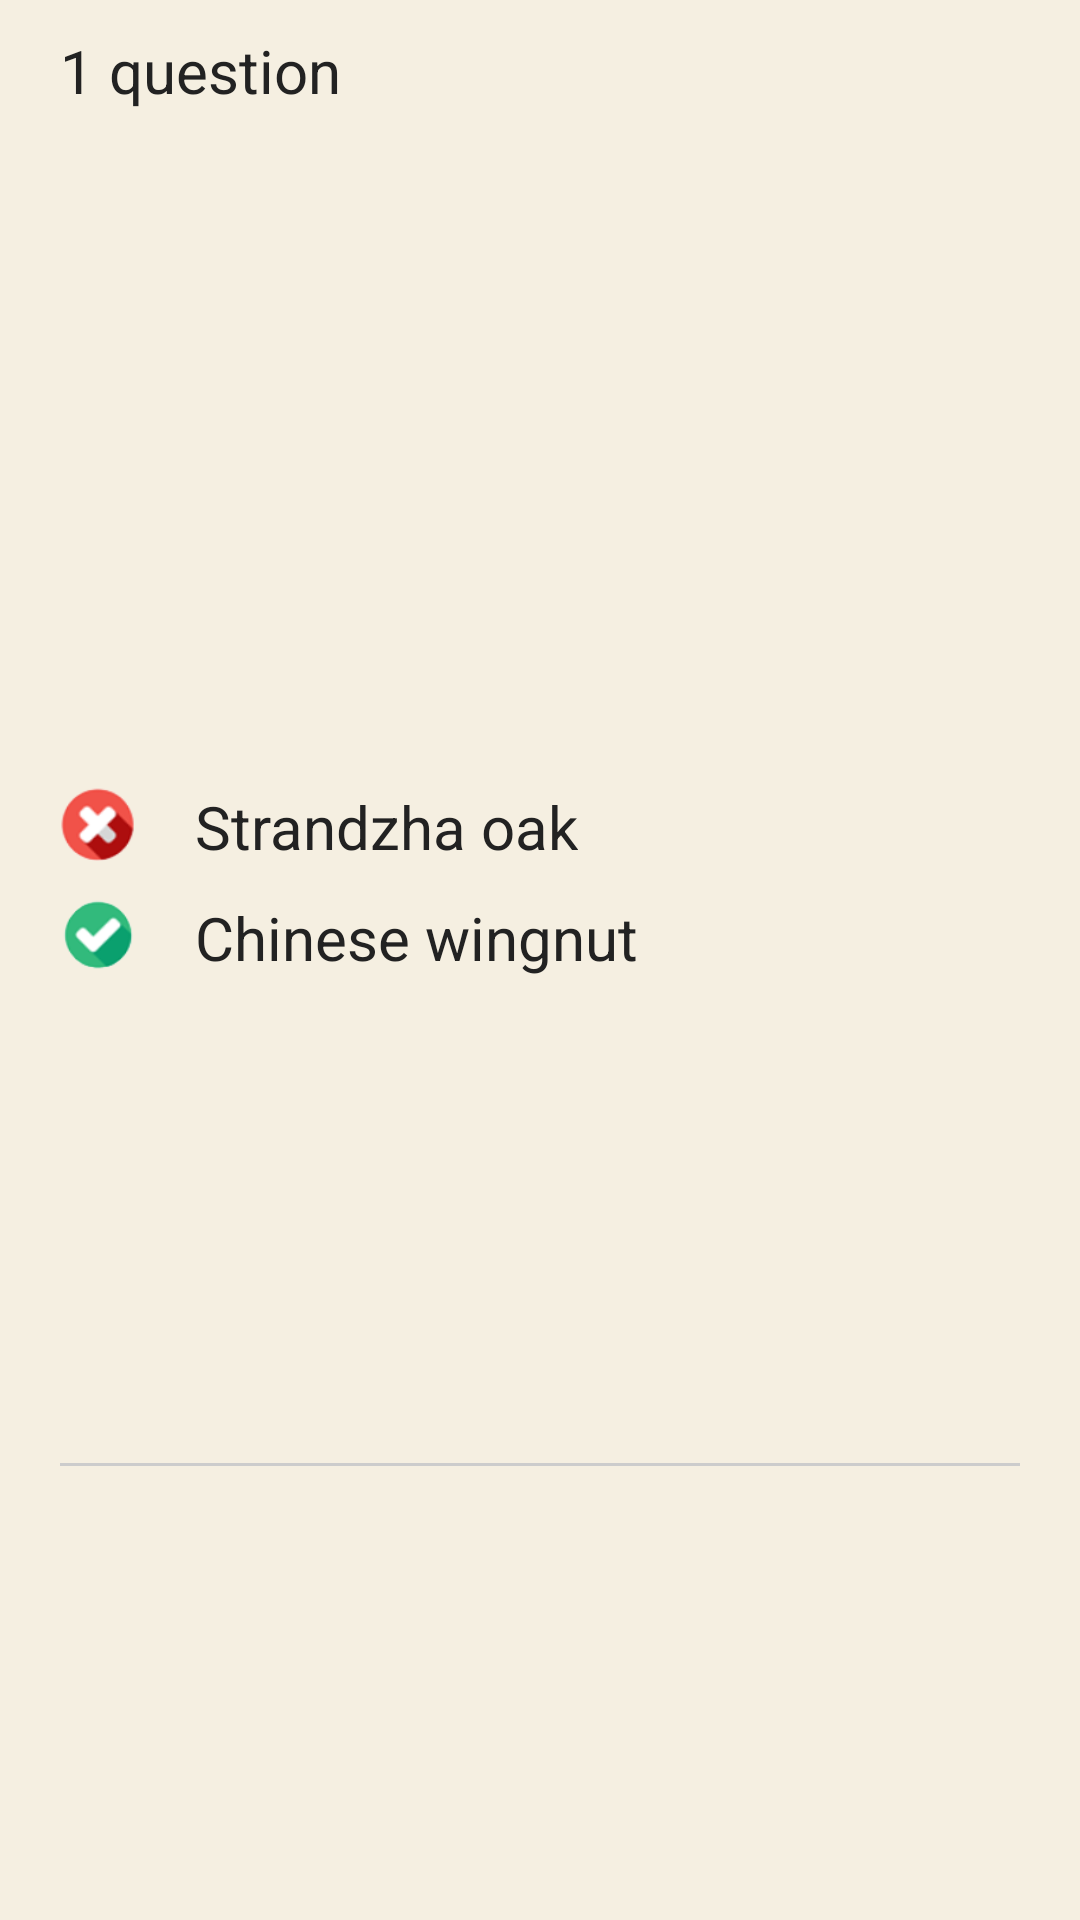

Icon click points for this 1080px×1920px phone screenshot, format (x=x, y=y):
correct: (x=98, y=935)
incorrect: (x=97, y=824)
